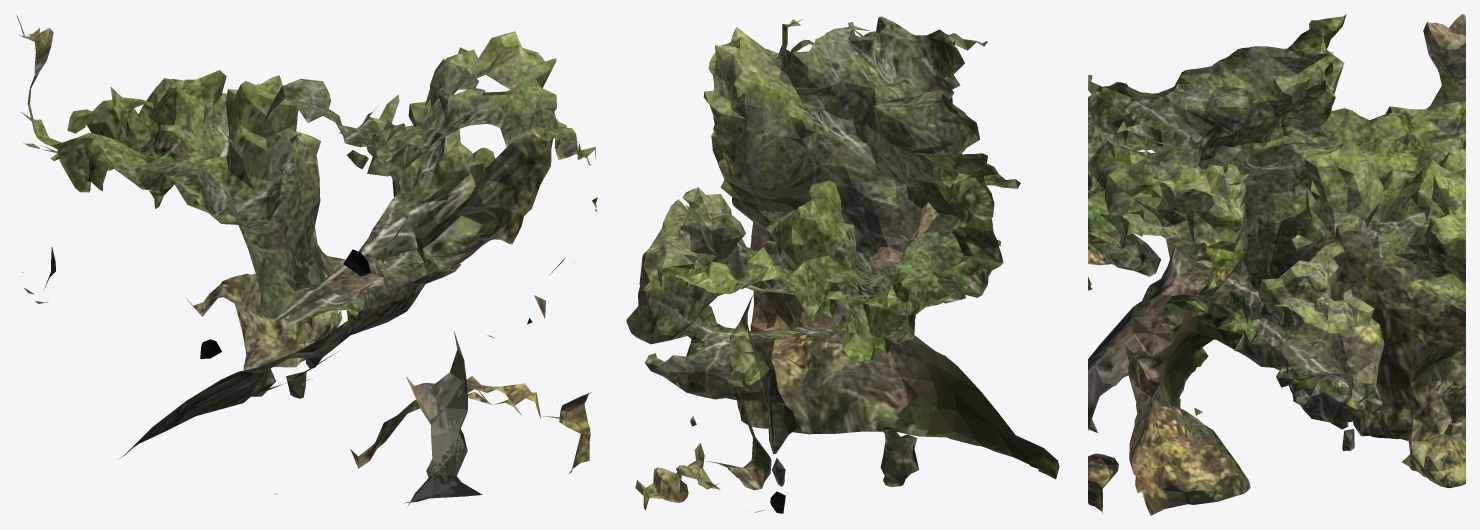
3 views of the same model, side by side, from view 1: azimuth 30°, elevation 25°; view 2: azimuth 150°, elevation 25°; view 3: azimuth 270°, elevation 25° (orthographic). The views are drawn at different scales.
Bounding box in the file's own units: 5.9 × 5.9 × 5.9.
8 materials, 8 textured.
